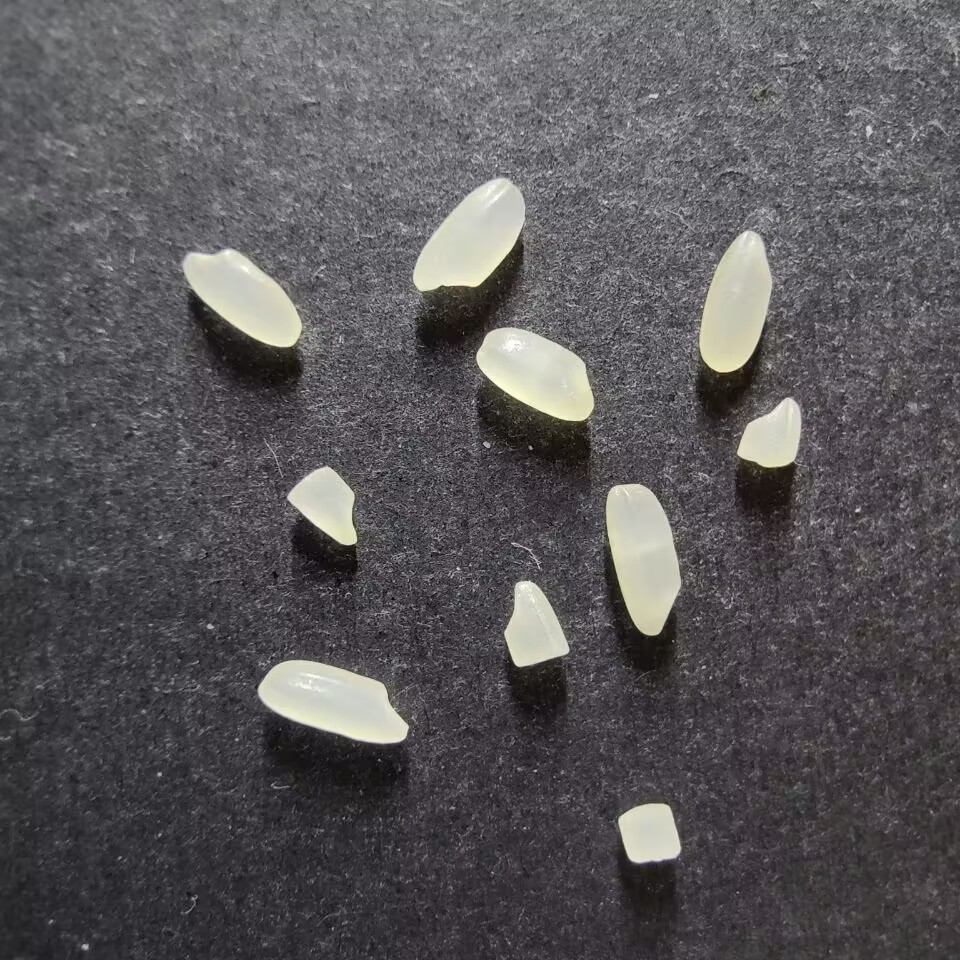broken: (503, 579, 570, 668), (286, 465, 359, 546), (736, 395, 801, 468), (617, 802, 681, 863)
rice: (257, 659, 410, 744), (412, 177, 525, 291), (183, 249, 302, 348), (605, 483, 681, 636), (475, 327, 595, 420), (699, 230, 772, 373)
